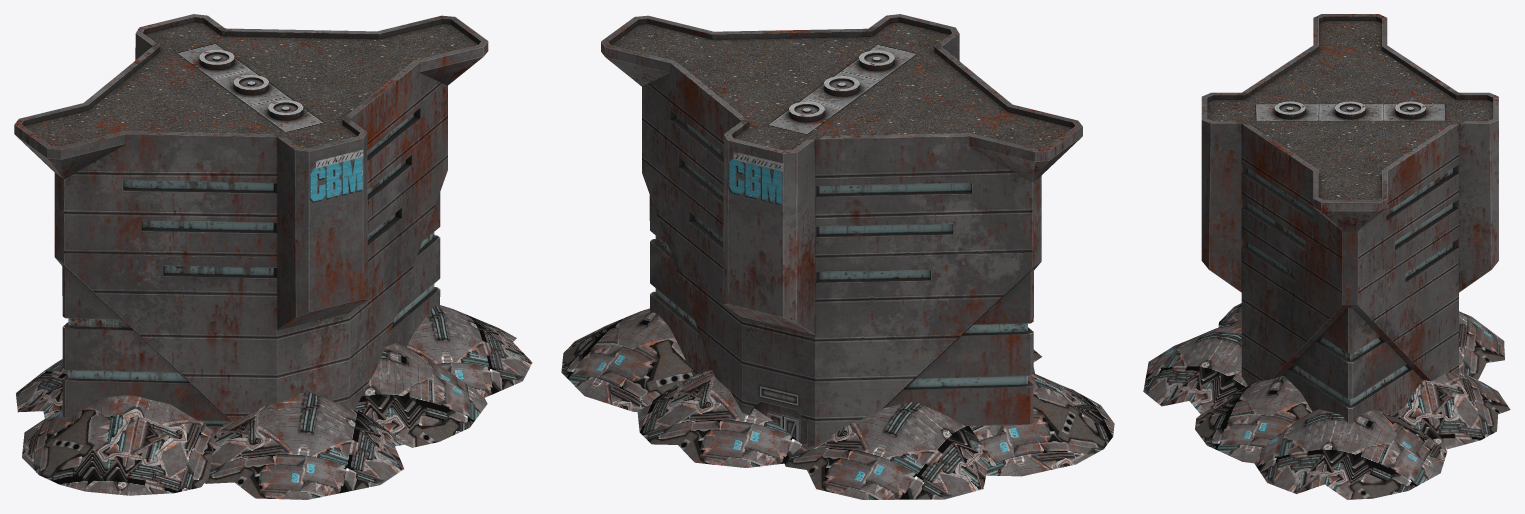
File: Building5Finished.FBX
The picture shows the model from 3 angles, left to right: view 1: azimuth 30°, elevation 25°; view 2: azimuth 150°, elevation 25°; view 3: azimuth 270°, elevation 25°; orthographic projection. The views are drawn at different scales.
Visible parts, largest first — view 1: complete, part13, pile3, pile2, part12, part14, pile5, part10, pile6, pile1, part6, part15 (+5 smaller); view 2: complete, part9, pile1, pile4, pile6, pile2, part10, part14, part15, part6, part12, part13 (+8 smaller); view 3: complete, part13, pile6, part12, part6, part9, pile3, part14, pile5, pile4, pile1, part5 (+6 smaller).
Boxes of the visible parts, box(x1,y1,x2,y2) form: complete: box(14, 15, 487, 430); part13: box(177, 117, 392, 392); pile3: box(205, 392, 405, 499); pile2: box(22, 395, 214, 495); part12: box(325, 45, 486, 214); part14: box(14, 87, 227, 276); pile5: box(356, 343, 487, 447); part10: box(62, 286, 169, 367); pile6: box(407, 305, 532, 397); pile1: box(16, 359, 68, 418); part6: box(385, 195, 436, 272); part15: box(135, 14, 216, 60); complete: box(601, 16, 1082, 447); part9: box(680, 72, 925, 293); pile1: box(784, 402, 996, 499); pile4: box(637, 370, 801, 467); pile6: box(561, 308, 694, 412); pile2: box(969, 373, 1114, 476); part10: box(916, 285, 1033, 377); part14: box(877, 65, 1082, 280); part15: box(723, 127, 807, 240); part6: box(646, 181, 732, 381); part12: box(645, 15, 881, 66); part13: box(865, 14, 964, 78); complete: box(1217, 59, 1498, 423); part13: box(1201, 77, 1292, 366); pile6: box(1254, 409, 1447, 499); part12: box(1218, 121, 1358, 315); part6: box(1285, 247, 1457, 417); part9: box(1393, 124, 1498, 249); pile3: box(1143, 324, 1247, 414); part14: box(1265, 14, 1407, 88); pile5: box(1195, 375, 1312, 463); pile4: box(1396, 371, 1510, 449); pile1: box(1459, 311, 1504, 379); part5: box(1452, 244, 1498, 374).
Size of the model in its own units: 396 by 289 by 242.
Materials: 1 (1 with a texture image).
